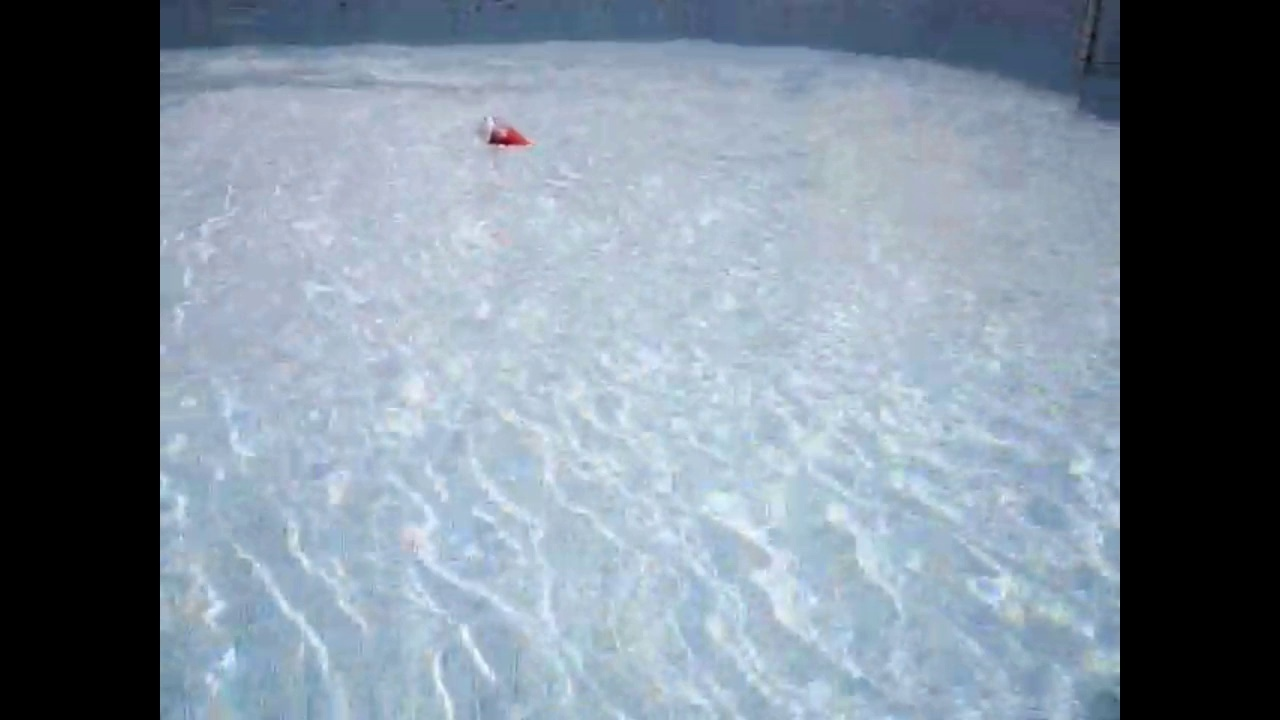debris: (466, 109, 540, 156)
